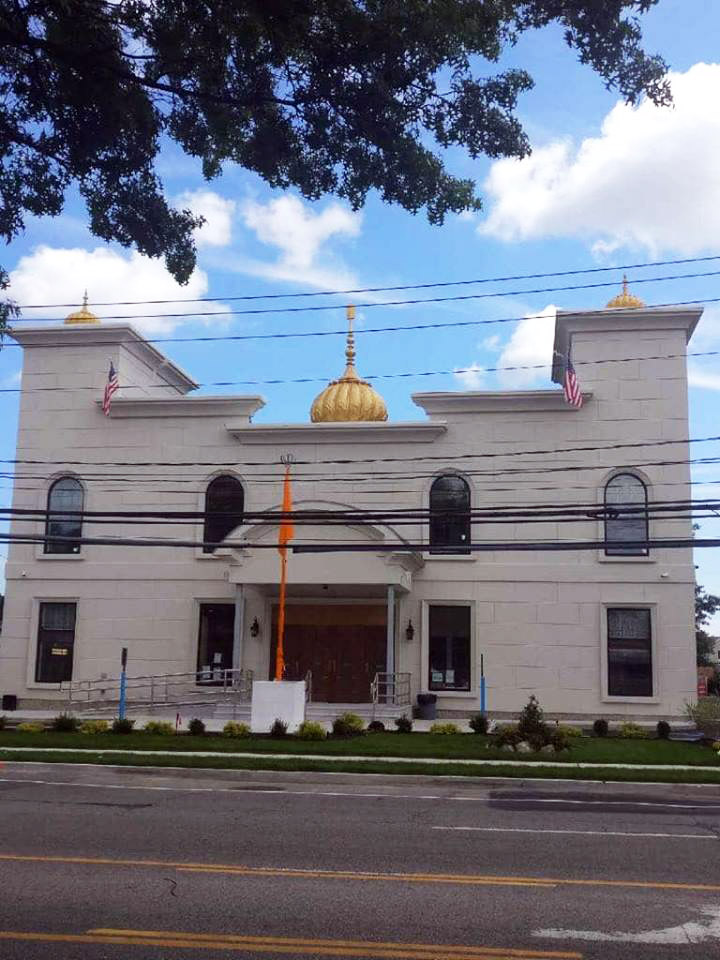Gurdwara: (8, 250, 712, 714)
